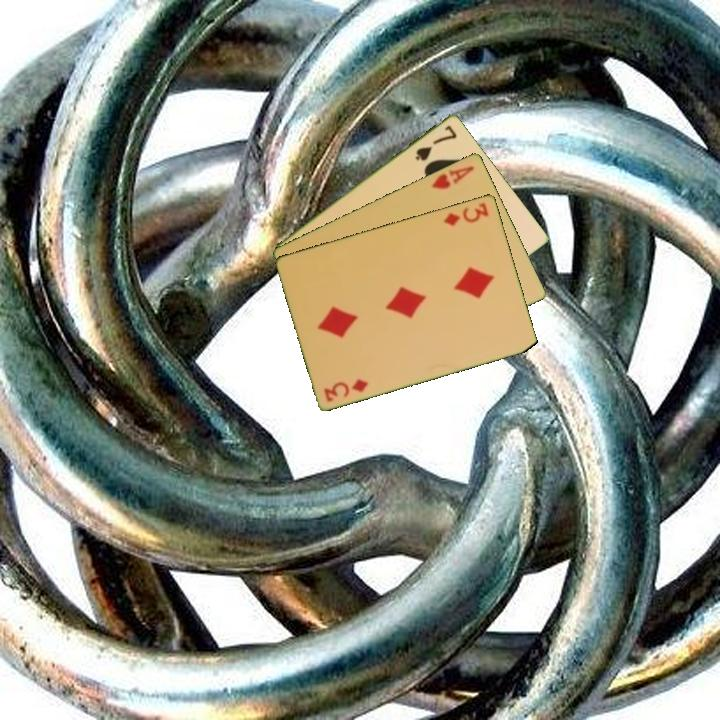3d: (320, 375, 371, 404), (441, 199, 491, 228)
7s: (411, 121, 460, 164)
Ah: (428, 162, 477, 192)
